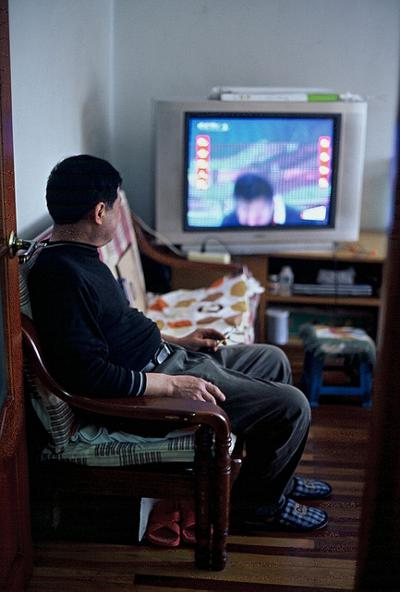person: (23, 155, 331, 538)
